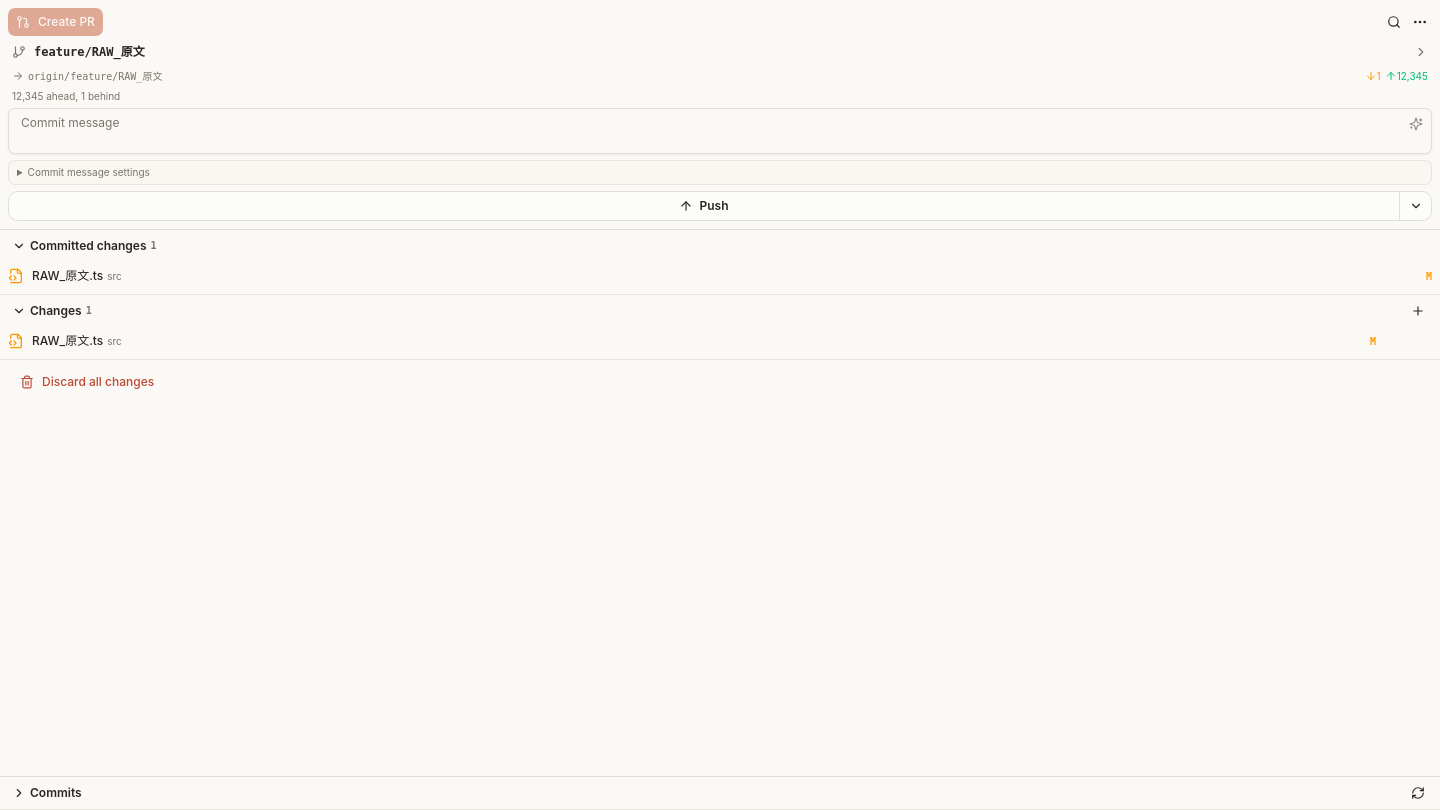
Test: WorkspaceGitTab i18n › enables the primary commit action after staging and entering a message
Expected: the text box labelled "Commit message" is enabled, [8, 108, 1432, 154]
Click the button named "Stage all". click: (1418, 311)
box: [1404, 297, 1432, 325]
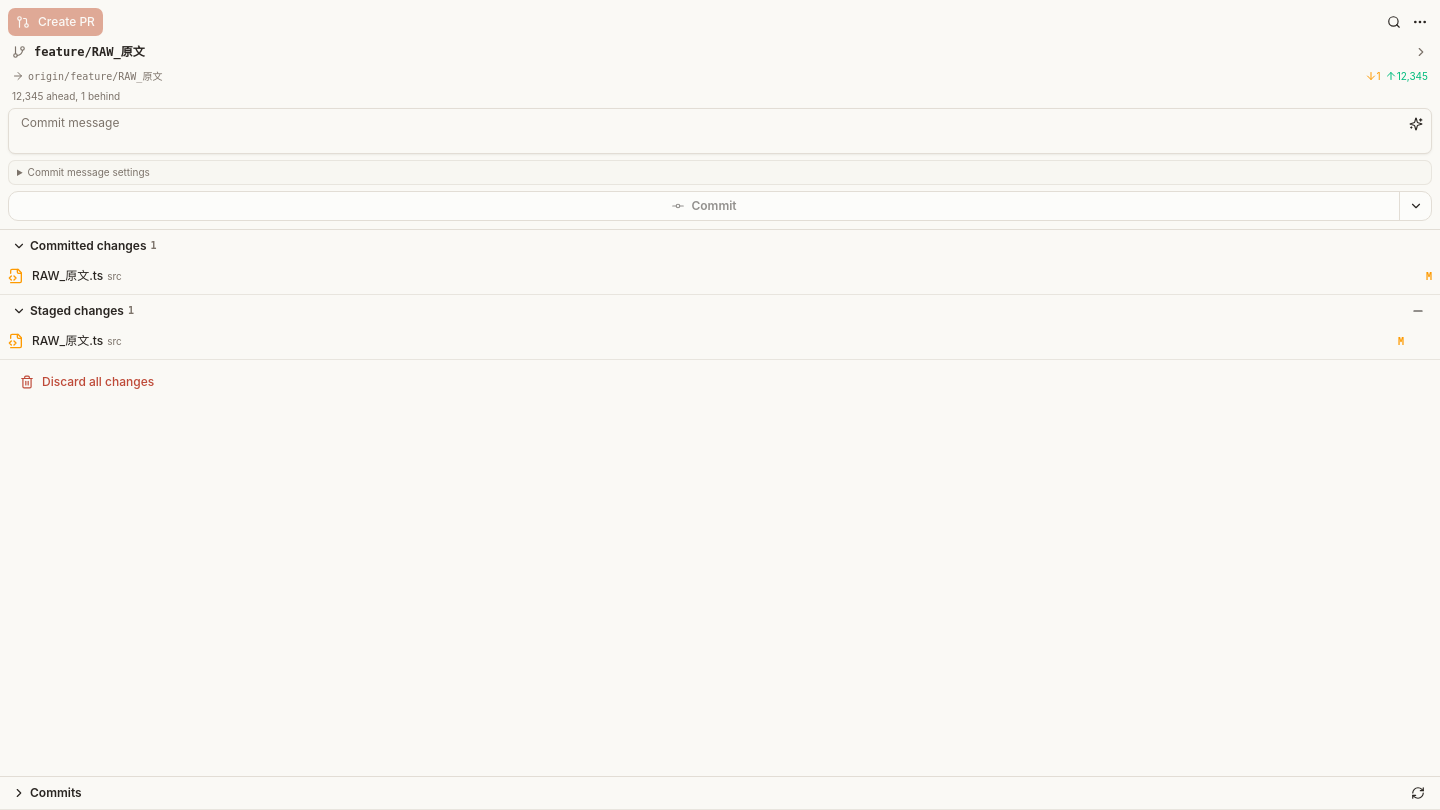
Expected: the button "Commit" is disabled, [9, 192, 1399, 220]
Type "ship the Git panel" into the text box labelled "Commit message". click: (720, 131)
box: [8, 108, 1432, 154]
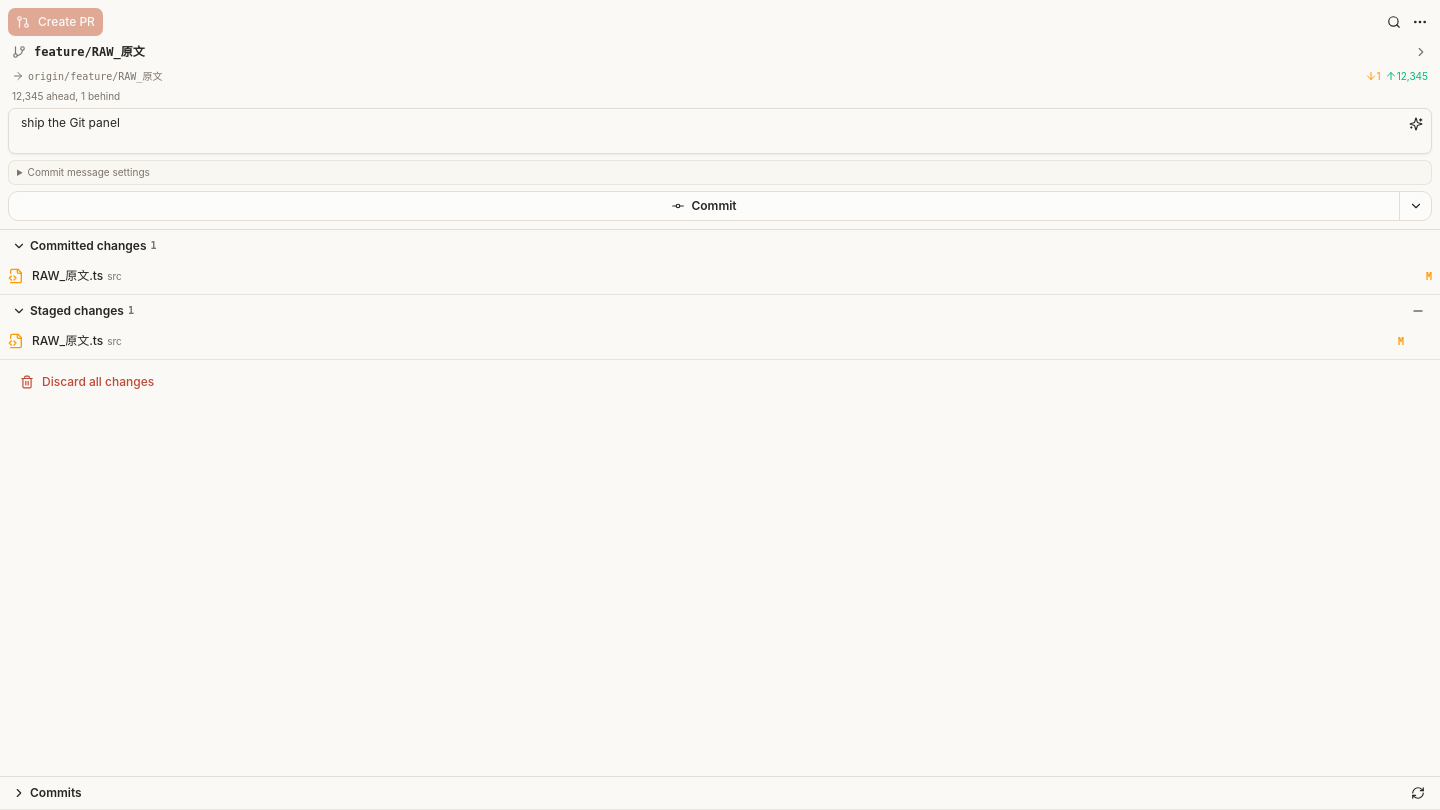
Expected: the button "Commit" is enabled, [9, 192, 1399, 220]
